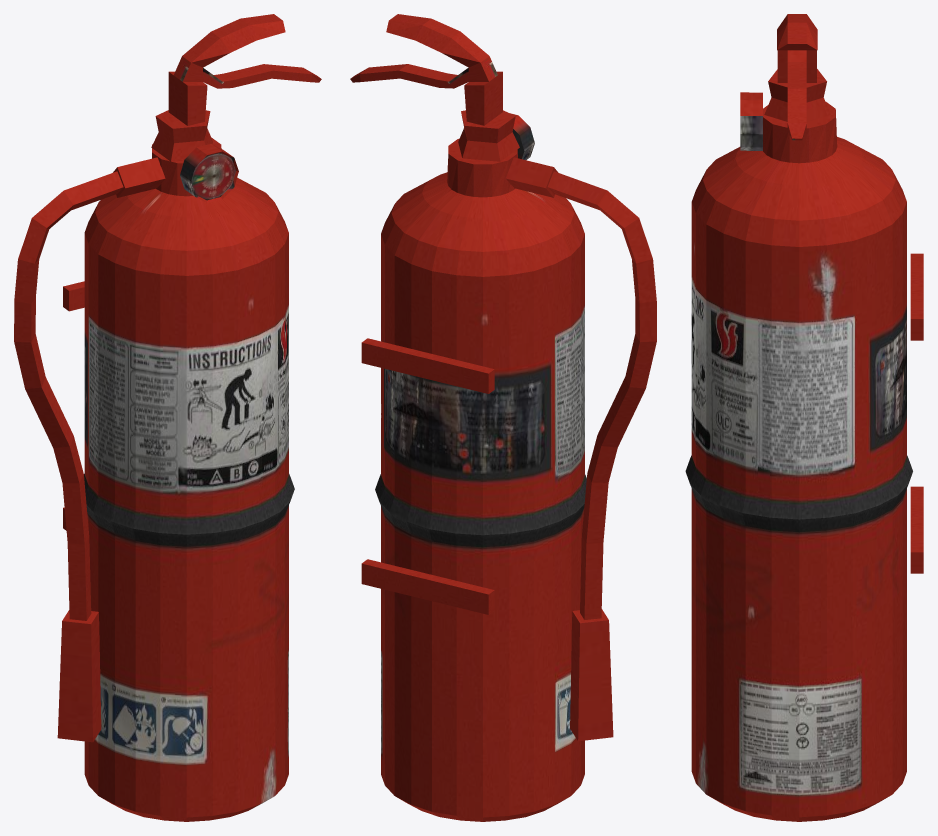
File: 灭火器.obj
The picture shows the model from 3 angles, left to right: view 1: azimuth 30°, elevation 25°; view 2: azimuth 150°, elevation 25°; view 3: azimuth 270°, elevation 25°; orthographic projection. The views are drawn at different scales.
Visible parts, largest first — view 1: Fire_extinguisher; view 2: Fire_extinguisher; view 3: Fire_extinguisher.
Boxes of the visible parts, x1,y1,x2,y2 form: Fire_extinguisher: (14,14,321,821); Fire_extinguisher: (350,14,656,821); Fire_extinguisher: (685,14,923,821).
Size of the model in its own units: 29.49 by 69.24 by 18.91.
